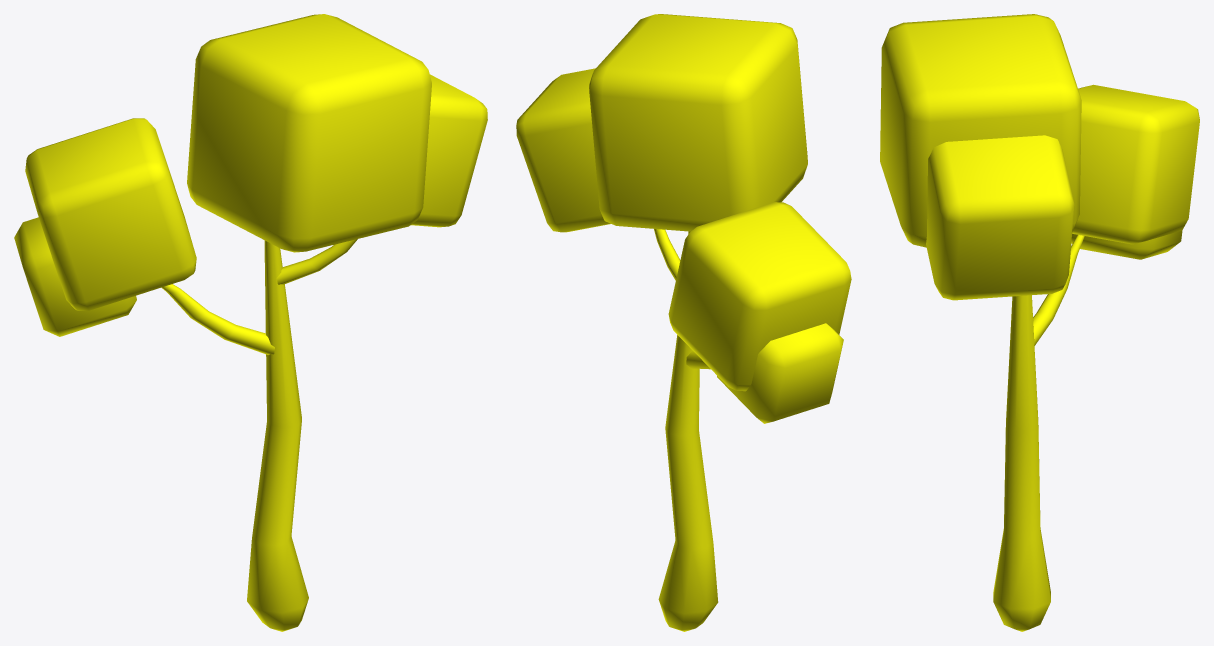
Rendered from kaykit-tree-2-c-color-1.glb.
3 views of the same model, side by side, from view 1: azimuth 30°, elevation 25°; view 2: azimuth 150°, elevation 25°; view 3: azimuth 270°, elevation 25° (orthographic). The views are drawn at different scales.
Visible parts, largest first — view 1: Tree_2_C_Color1; view 2: Tree_2_C_Color1; view 3: Tree_2_C_Color1.
Boxes of the visible parts, x1,y1,x2,y2 form: Tree_2_C_Color1: [14, 14, 487, 631]; Tree_2_C_Color1: [516, 14, 851, 631]; Tree_2_C_Color1: [880, 14, 1199, 631].
Bounding box in the file's own units: 4.6 × 6.92 × 3.4.
